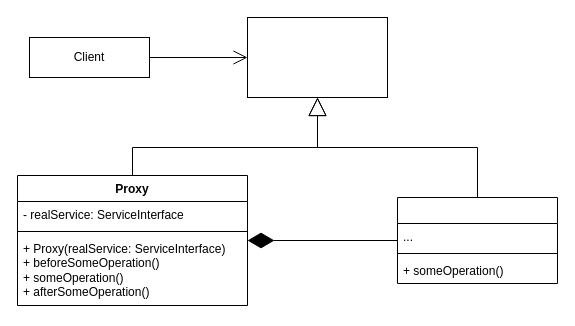
Image size: 575x326. Some labels were removed from this diagram. The shapes that lost their labels are listed below. From the top down, each one's box as (x1, y1, x2, y2) in pixels, then its label:
(246, 16, 388, 98): <<Interface>> ServiceInterface + someOperation()
(396, 196, 558, 284): RealService
